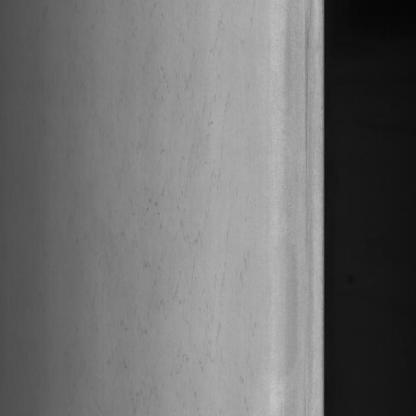silk_spot: (129, 99, 244, 392)
